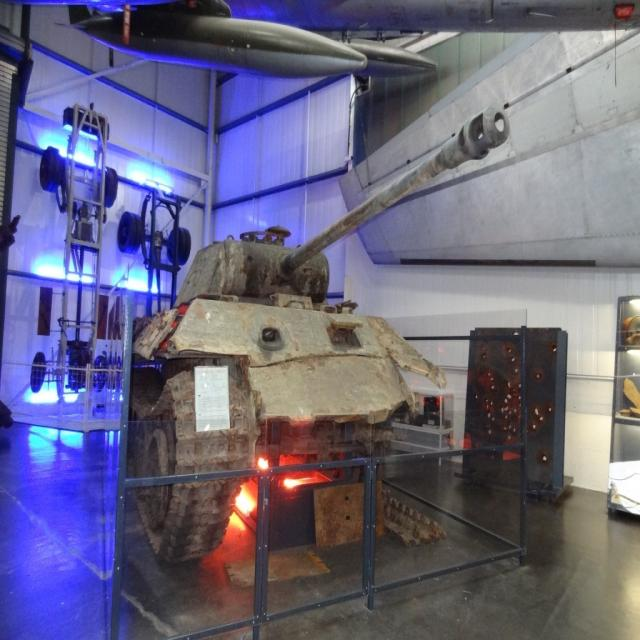tank: (130, 101, 509, 566)
